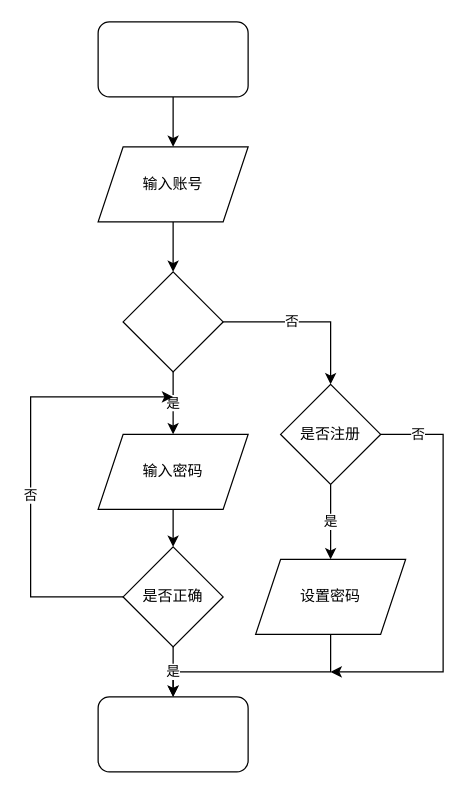
Image size: 475x794. Some labels were removed from this diagram. Here are the shapes that lost their labels. From the top down, the centre of each, then its label:
At (x=172, y=59): "开始".
At (x=172, y=321): "是否存在用户".
At (x=172, y=734): "结束".
